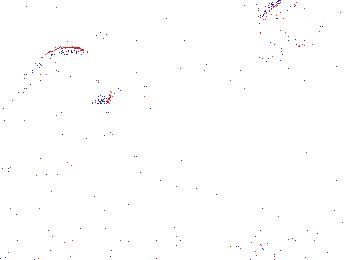moon jellyfish: (1, 95, 96, 177), (18, 46, 115, 105), (231, 49, 319, 109), (258, 1, 331, 69), (87, 9, 175, 44)
